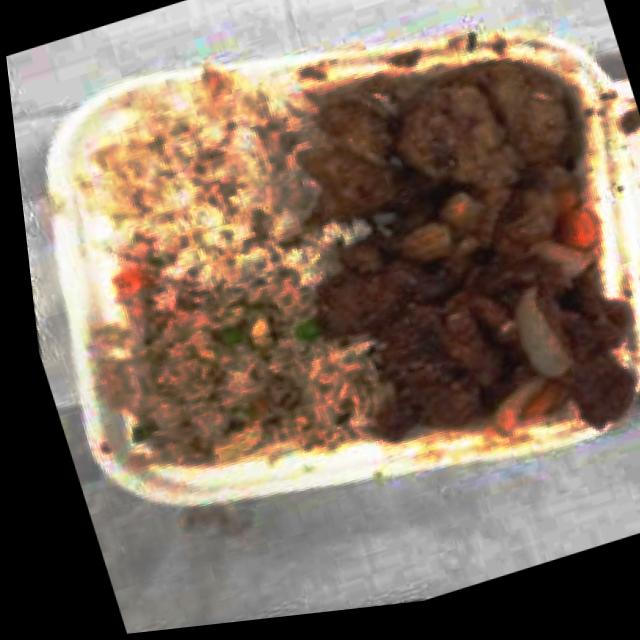Beijing Beef: (330, 214, 640, 477)
Fried Rice: (105, 281, 364, 492)
Kung Pao Chicken: (284, 50, 606, 294)
rice: (90, 94, 312, 284), (174, 226, 331, 307)
